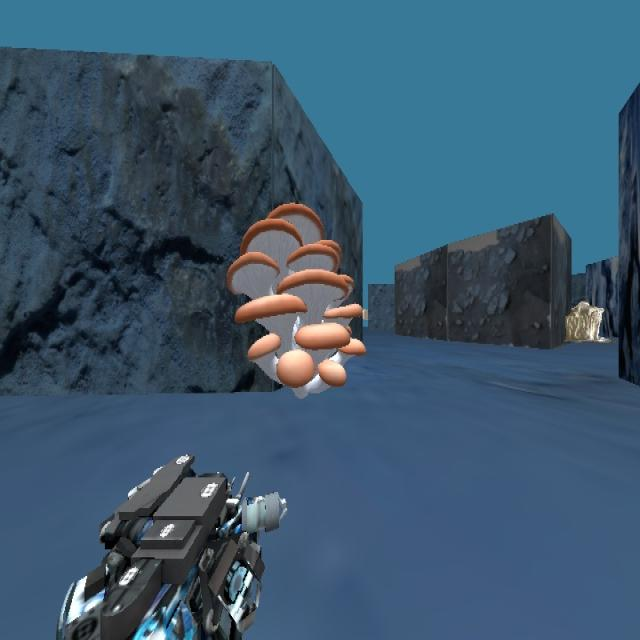Ice: (562, 269, 640, 376)
Mushroom: (226, 200, 368, 393)
